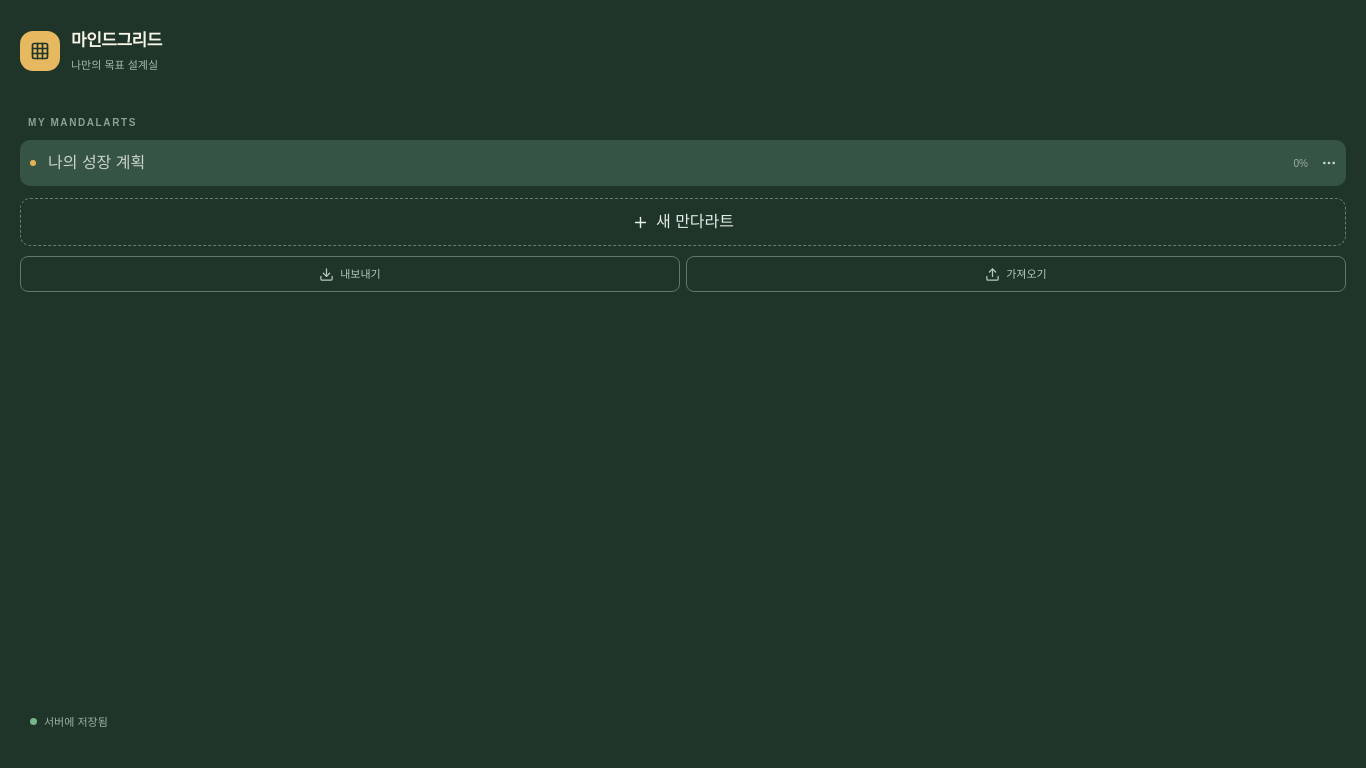
Test: mandalart management › offers create, rename, duplicate, delete and backup actions with accessible labels
This screenshot has width=1366, height=768.
Expected: the button "새 만다라트" is shown, [20,198,1346,246]
Expected: the button with aria-label "나의 성장 계획 선택" is shown, [20,140,1312,186]
Click the button named "나의 성장 계획 관리". click: click(1329, 163)
box: [1312,140,1346,186]
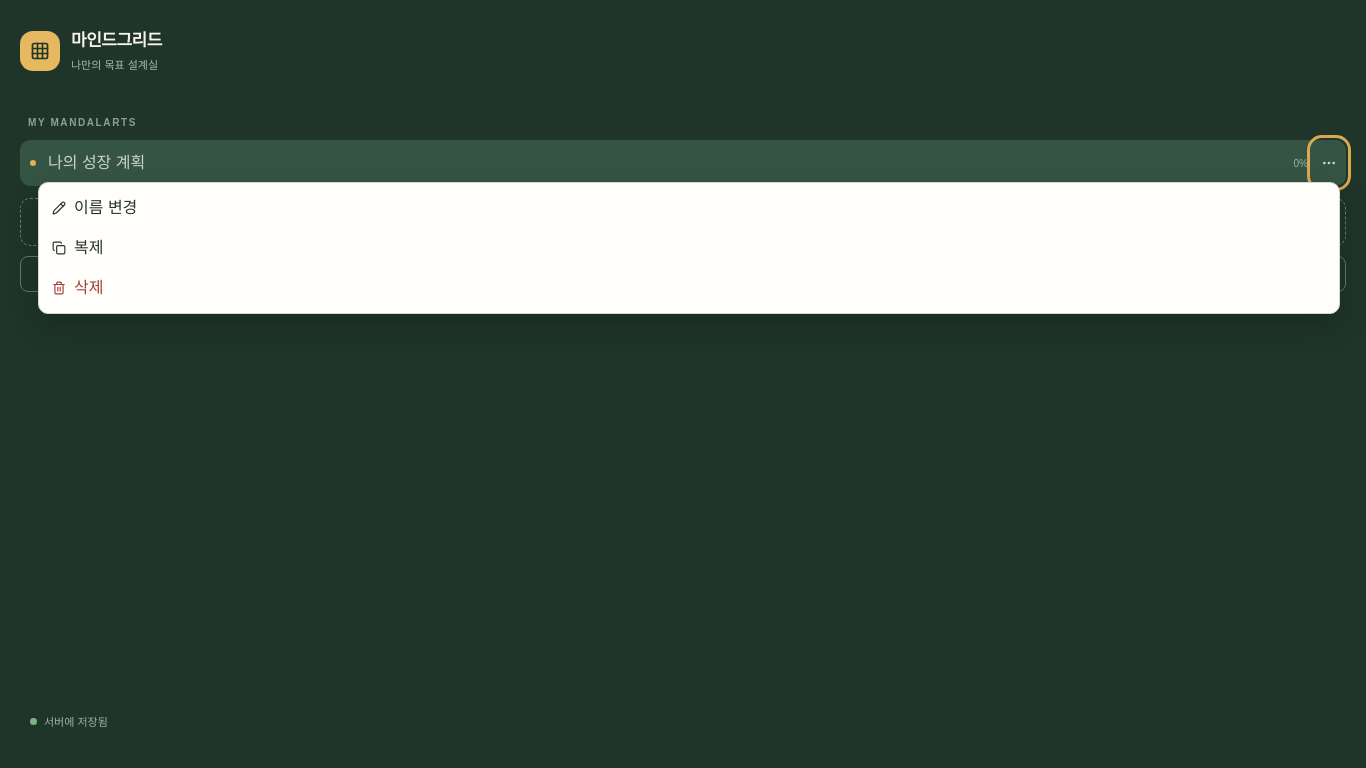
Result: the menu item "이름 변경" is shown at [44,188,1334,228]
Result: the menu item "복제" is shown at [44,228,1334,268]
Result: the menu item "삭제" is shown at [44,268,1334,308]
